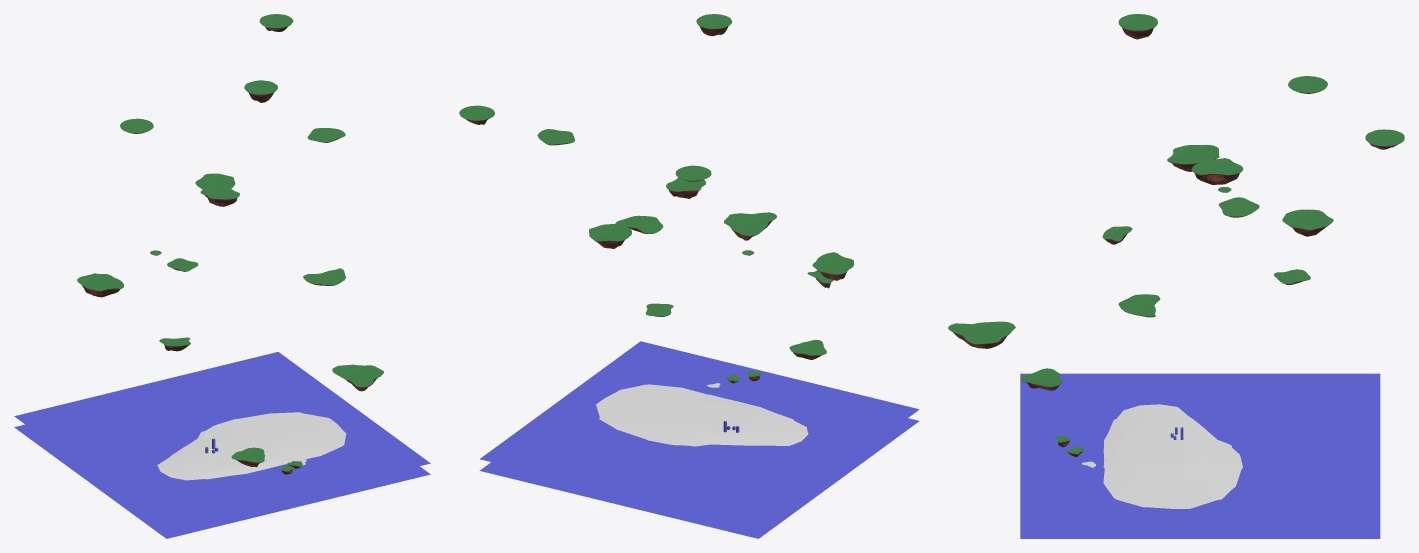
Rendered from octree2.glb.
The picture shows the model from 3 angles, left to right: view 1: azimuth 30°, elevation 25°; view 2: azimuth 150°, elevation 25°; view 3: azimuth 270°, elevation 25°; orthographic projection. The views are drawn at different scales.
Parts seen in each view (by area): view 1: Ocean, Beach, BufferPlane, Var3.001, Var1.002, Var1.001, Var4, Var2.003; view 2: Ocean, Beach, BufferPlane, Var3.001, Var1.002, Var1.003, Var4, Var2.003, Var1.001; view 3: Ocean, Beach, BufferPlane, Var3.001, Var1.001, Var1.003, Var1.002, Var4, Var2.003, Var3.003, Var3, Var2.001 (+1 smaller).
Part boxes in pixels (x1=…): Ocean: x1=14, y1=352, x2=430, y2=527; Beach: x1=157, y1=412, x2=346, y2=480; BufferPlane: x1=14, y1=424, x2=430, y2=538; Var3.001: x1=332, y1=364, x2=383, y2=391; Var1.002: x1=77, y1=273, x2=123, y2=297; Var1.001: x1=200, y1=182, x2=239, y2=206; Var4: x1=244, y1=80, x2=277, y2=102; Var2.003: x1=303, y1=268, x2=345, y2=285; Ocean: x1=480, y1=341, x2=919, y2=527; Beach: x1=596, y1=384, x2=808, y2=446; BufferPlane: x1=479, y1=418, x2=919, y2=538; Var3.001: x1=724, y1=212, x2=776, y2=240; Var1.002: x1=812, y1=252, x2=853, y2=280; Var1.003: x1=589, y1=224, x2=631, y2=248; Var4: x1=696, y1=14, x2=732, y2=36; Var2.003: x1=615, y1=215, x2=663, y2=233; Var1.001: x1=666, y1=177, x2=706, y2=198; Ocean: x1=1020, y1=373, x2=1380, y2=525; Beach: x1=1103, y1=404, x2=1242, y2=508; BufferPlane: x1=1020, y1=526, x2=1380, y2=538; Var3.001: x1=948, y1=321, x2=1015, y2=348; Var1.001: x1=1191, y1=158, x2=1243, y2=184; Var1.003: x1=1282, y1=209, x2=1333, y2=236; Var1.002: x1=1167, y1=144, x2=1219, y2=171; Var4: x1=1118, y1=14, x2=1157, y2=39; Var2.003: x1=1118, y1=294, x2=1160, y2=317; Var3.003: x1=1020, y1=368, x2=1062, y2=390; Var3: x1=1365, y1=129, x2=1404, y2=149; Var2.001: x1=1218, y1=197, x2=1259, y2=217.
Size of the model in its own units: 124 by 157 by 145.
